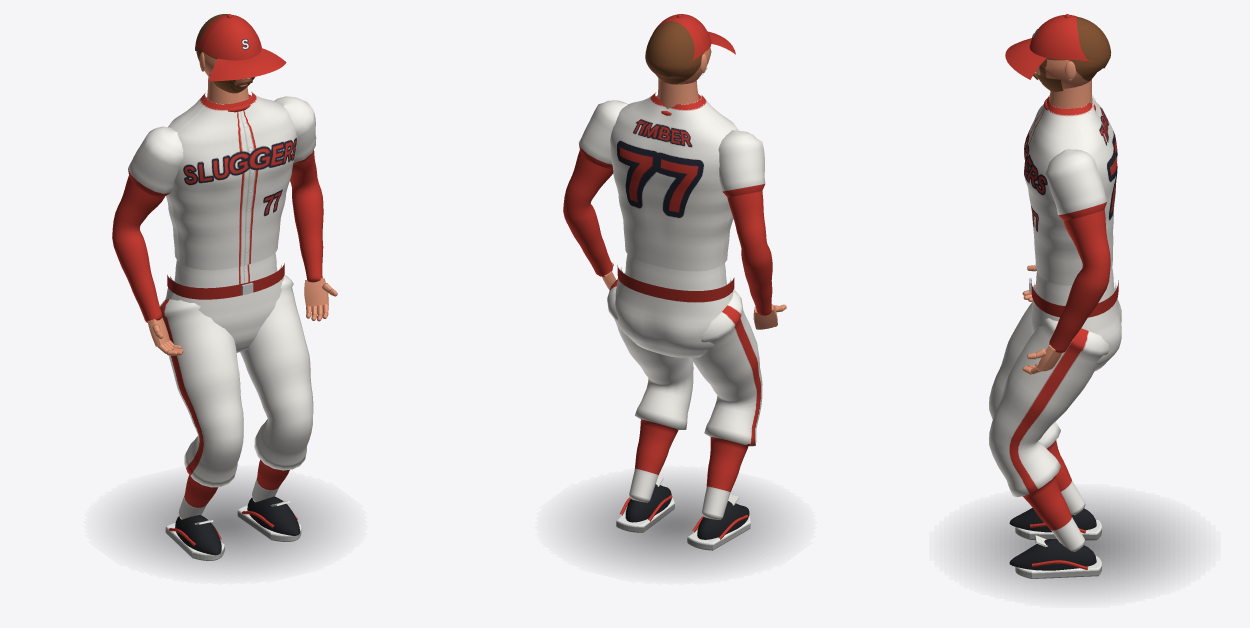
Rendered from player_10_home.glb.
The picture shows the model from 3 angles, left to right: view 1: azimuth 30°, elevation 25°; view 2: azimuth 150°, elevation 25°; view 3: azimuth 270°, elevation 25°; orthographic projection. The views are drawn at different scales.
Visible parts, largest first — view 1: player_10_home, object 32, object 34, object 2; view 2: player_10_home, object 29, object 2, object 32, object 36; view 3: player_10_home, object 32, object 29, object 36, object 34, object 2.
Boxes of the visible parts, box(x1,y1,x2,y2) form: player_10_home: box(112, 91, 334, 570); object 32: box(195, 14, 261, 60); object 34: box(208, 48, 286, 81); object 2: box(207, 77, 248, 103); player_10_home: box(563, 92, 783, 570); object 29: box(645, 21, 710, 77); object 2: box(657, 78, 698, 108); object 32: box(653, 14, 711, 65); object 36: box(656, 48, 711, 84); player_10_home: box(964, 95, 1185, 592); object 32: box(1029, 15, 1110, 61); object 29: box(1046, 16, 1111, 68); object 36: box(1035, 59, 1102, 88); object 34: box(1005, 38, 1046, 79); object 2: box(1049, 79, 1092, 108).
Bounding box in the file's own units: 3.5 × 6.48 × 3.5.
27 materials, 5 textured.
